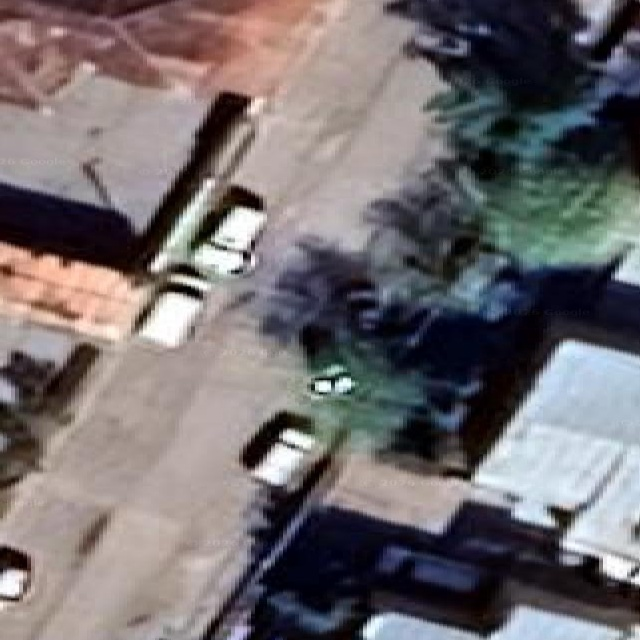car: (138, 273, 208, 347), (193, 206, 265, 275), (251, 428, 316, 487), (0, 546, 31, 609), (307, 364, 355, 397)
